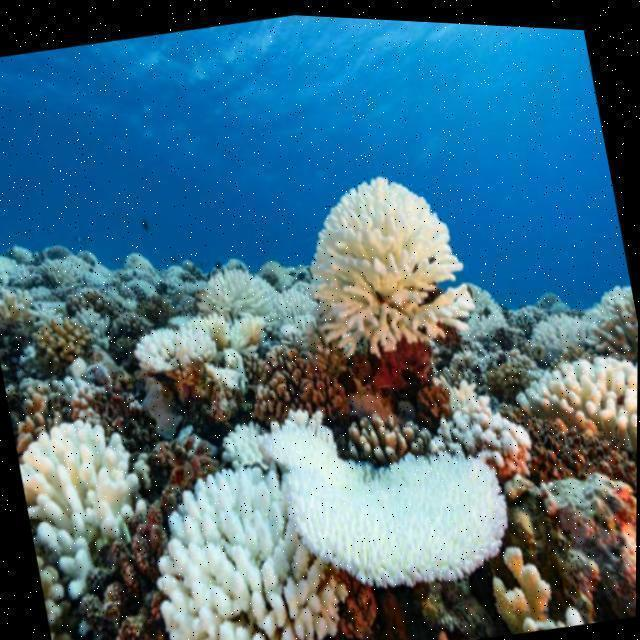Bleached Coral: (278, 418, 559, 613), (160, 458, 312, 640), (316, 171, 459, 297), (0, 432, 144, 550), (532, 344, 640, 439), (127, 321, 221, 376)
